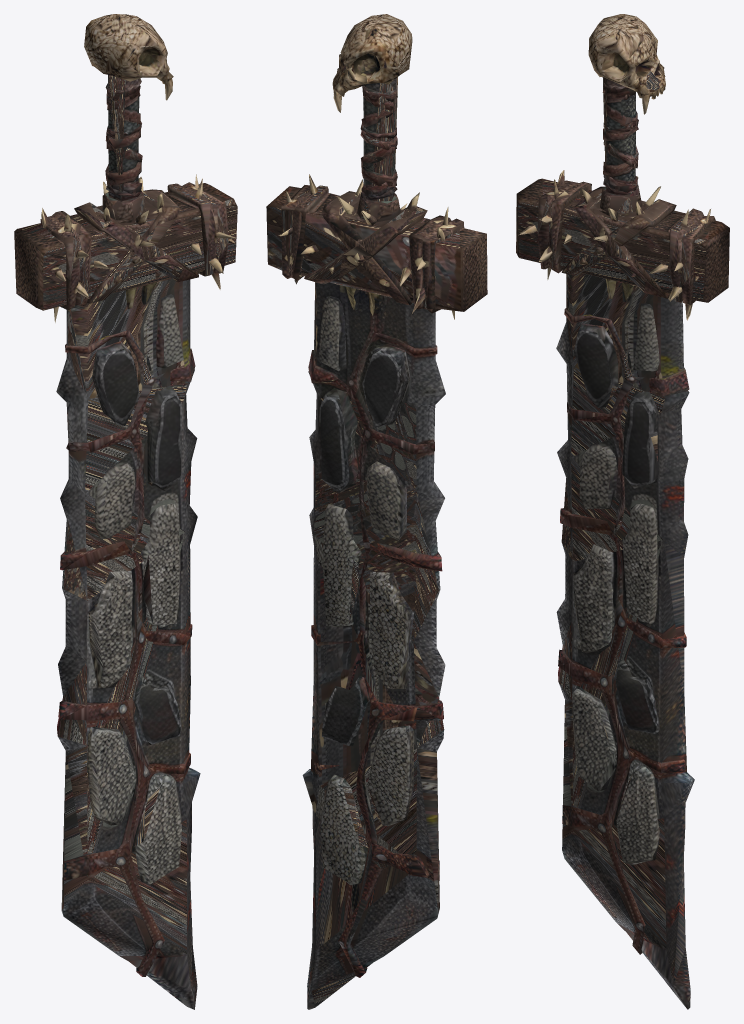
File: greatsword.glb
The picture shows the model from 3 angles, left to right: view 1: azimuth 30°, elevation 25°; view 2: azimuth 150°, elevation 25°; view 3: azimuth 330°, elevation 25°; orthographic projection. The views are drawn at different scales.
Visible parts, largest first — view 1: cdb0a19a_2e97_49b3_88d3_ac87ed9bf224; view 2: cdb0a19a_2e97_49b3_88d3_ac87ed9bf224; view 3: cdb0a19a_2e97_49b3_88d3_ac87ed9bf224.
Boxes of the visible parts, bbox=[...] form: cdb0a19a_2e97_49b3_88d3_ac87ed9bf224: bbox=[14, 14, 237, 1009]; cdb0a19a_2e97_49b3_88d3_ac87ed9bf224: bbox=[266, 14, 487, 1009]; cdb0a19a_2e97_49b3_88d3_ac87ed9bf224: bbox=[516, 14, 729, 1009].
Size of the model in its own units: 0.207 by 1 by 0.1042.
Materials: 1 (1 with a texture image).
